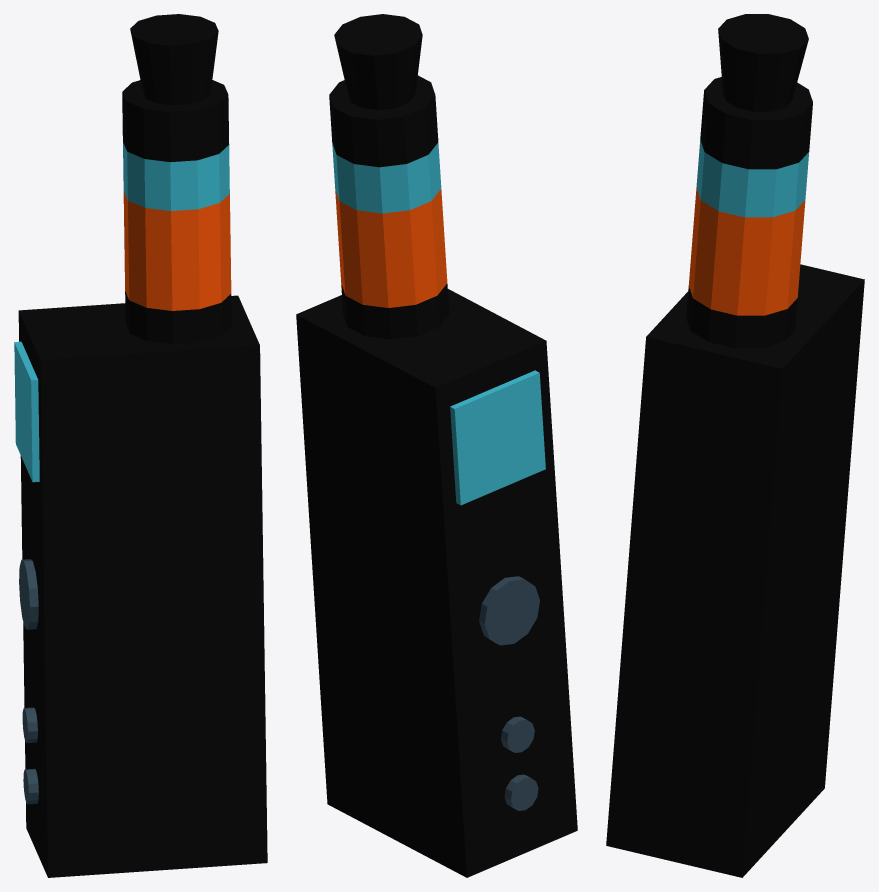
The model's file is VAPE PEN - LARGE.fbx.
3 renders of one model, left to right at view 1: azimuth 30°, elevation 25°; view 2: azimuth 150°, elevation 25°; view 3: azimuth 270°, elevation 25°, orthographic. The views are drawn at different scales.
Parts seen in each view (by area): view 1: group1595177328, group934012116, group425743952, group558881694, group421681305, group385603075, group1290590548, group1699000282, group784747430, group147670151; view 2: group1595177328, group934012116, group1290590548, group425743952, group558881694, group421681305, group385603075, group1699000282, group784747430, group147670151; view 3: group1595177328, group934012116, group425743952, group558881694, group421681305, group385603075.
Part boxes in pixels (<box>): group1595177328: <box>18,295,267,877</box>; group934012116: <box>123,191,231,310</box>; group425743952: <box>130,14,218,105</box>; group558881694: <box>122,80,229,162</box>; group421681305: <box>123,142,229,210</box>; group385603075: <box>125,291,231,343</box>; group1290590548: <box>14,341,39,482</box>; group1699000282: <box>19,559,38,629</box>; group784747430: <box>23,768,38,804</box>; group147670151: <box>22,707,37,743</box>; group1595177328: <box>296,289,577,877</box>; group934012116: <box>335,189,447,307</box>; group1290590548: <box>450,370,545,505</box>; group425743952: <box>334,14,422,109</box>; group558881694: <box>329,75,438,167</box>; group421681305: <box>332,143,441,213</box>; group385603075: <box>341,283,449,339</box>; group1699000282: <box>479,576,539,645</box>; group784747430: <box>504,774,538,810</box>; group147670151: <box>501,716,534,752</box>; group1595177328: <box>606,264,864,877</box>; group934012116: <box>688,188,805,315</box>; group425743952: <box>718,14,808,111</box>; group558881694: <box>700,77,812,169</box>; group421681305: <box>696,140,809,217</box>; group385603075: <box>686,286,797,348</box>.
Size of the model in its own units: 0.1528 by 0.492 by 0.1412.
